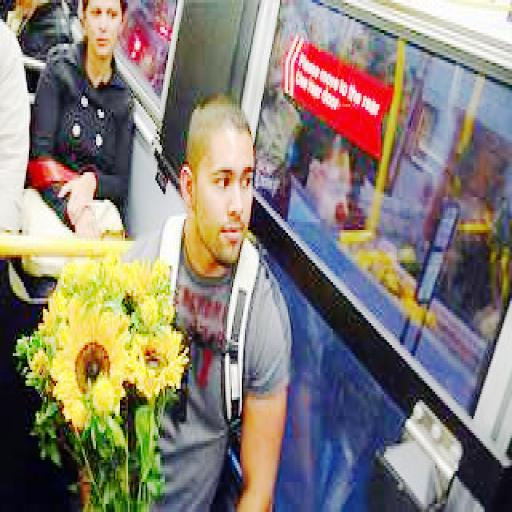sunflower: (53, 307, 125, 424), (126, 326, 189, 397)
